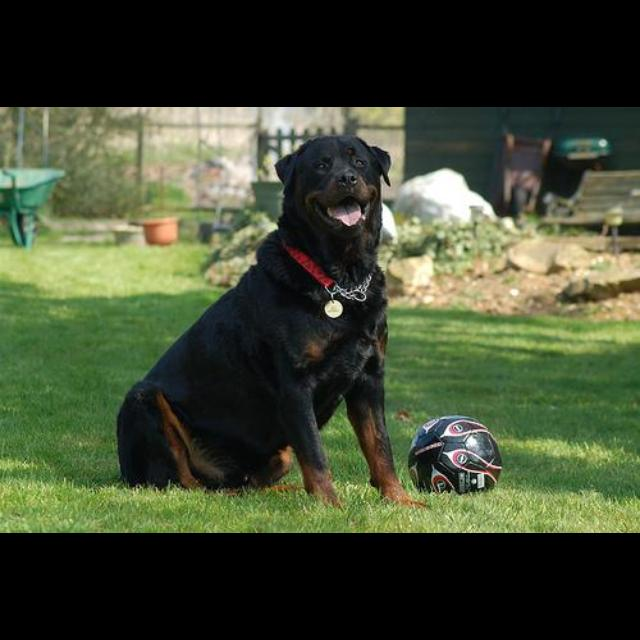rottweiler: (116, 134, 428, 511)
